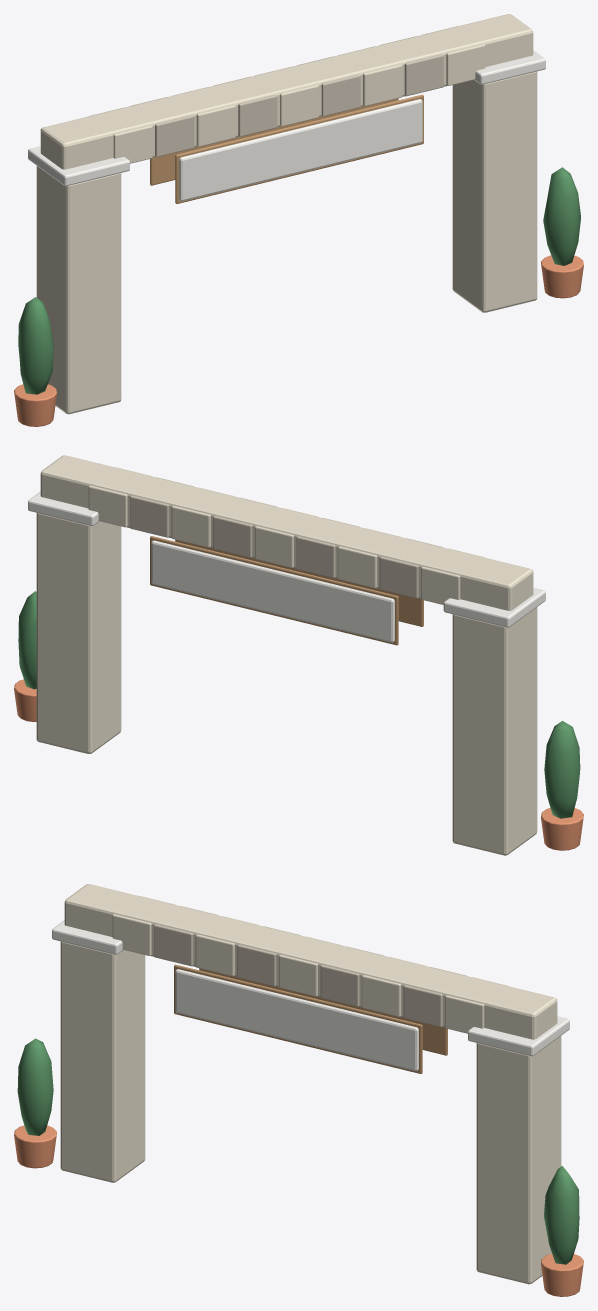
The model's file is town_gate.fbx.
The picture shows the model from 3 angles, top to bottom: view 1: azimuth 30°, elevation 25°; view 2: azimuth 150°, elevation 25°; view 3: azimuth 330°, elevation 25°; orthographic projection.
Visible parts, largest first — view 1: Visual; view 2: Visual; view 3: Visual.
Boxes of the visible parts, bbox=[...] form: Visual: bbox=[14, 14, 583, 426]; Visual: bbox=[14, 455, 583, 855]; Visual: bbox=[14, 884, 583, 1296].
Size of what is drawn, in the model's own units: 1626 by 740 by 210.
